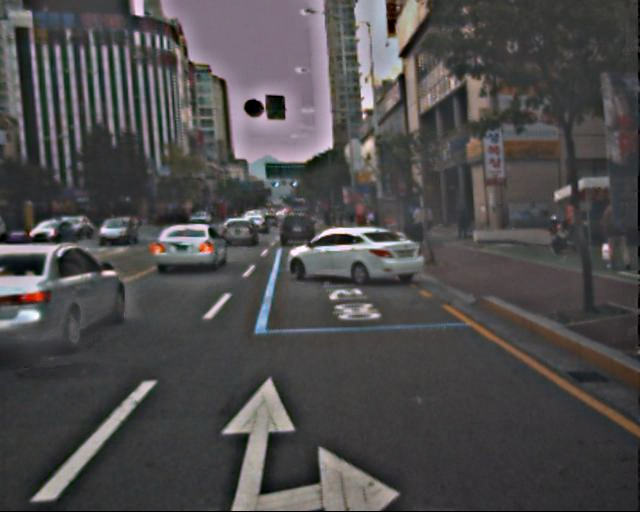person: (600, 194, 633, 274), (563, 199, 582, 246), (410, 205, 425, 242), (456, 209, 470, 243), (367, 210, 376, 233)
